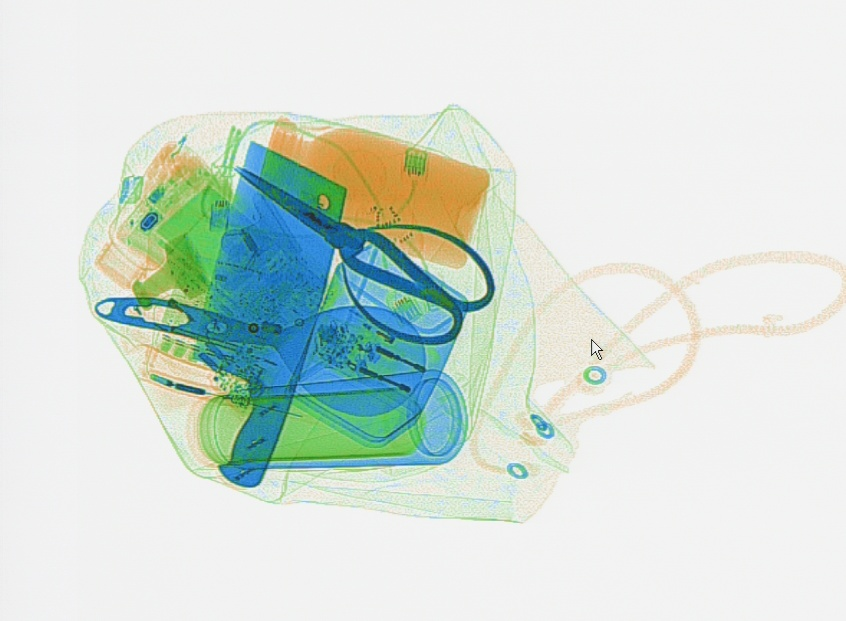knife: (185, 136, 349, 488)
lighter: (313, 289, 400, 353)
scissors: (229, 160, 499, 345)
